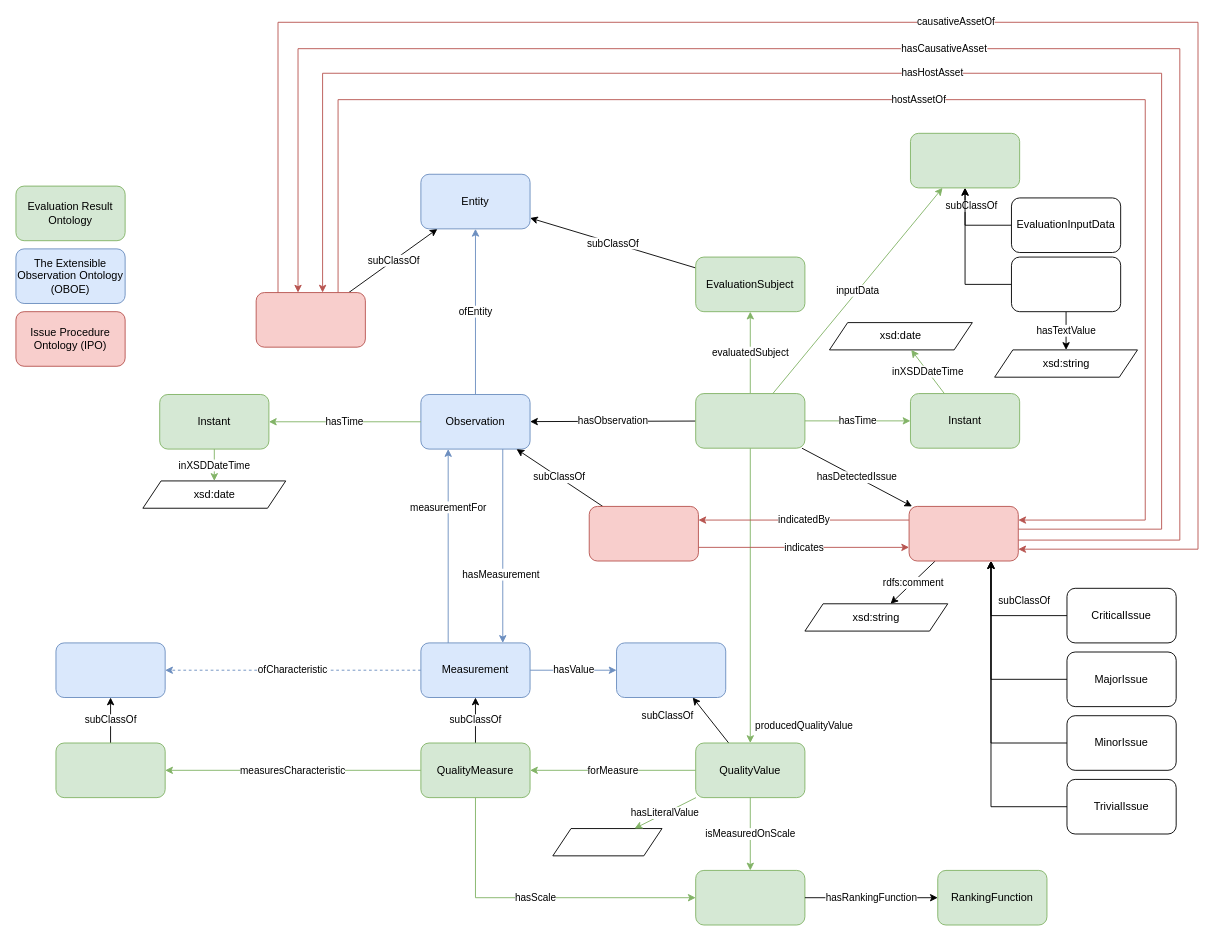
Image size: 1221x941. Some labels were removed from this diagram. The centre of each missing label's shape, as x and y in pixels:
1^^xsd:integer: point 607,842
Asset: point 310,319
Characteristic: point 110,670
Evaluation: point 750,420
Evaluation ConfigurationData: point 1066,284
EvaluationData: point 965,160
Issue: point 963,533
MeasuredValue: point 671,670
MeasurementScale: point 750,897
QualityCharacteristic: point 110,770
Symptom: point 643,533
